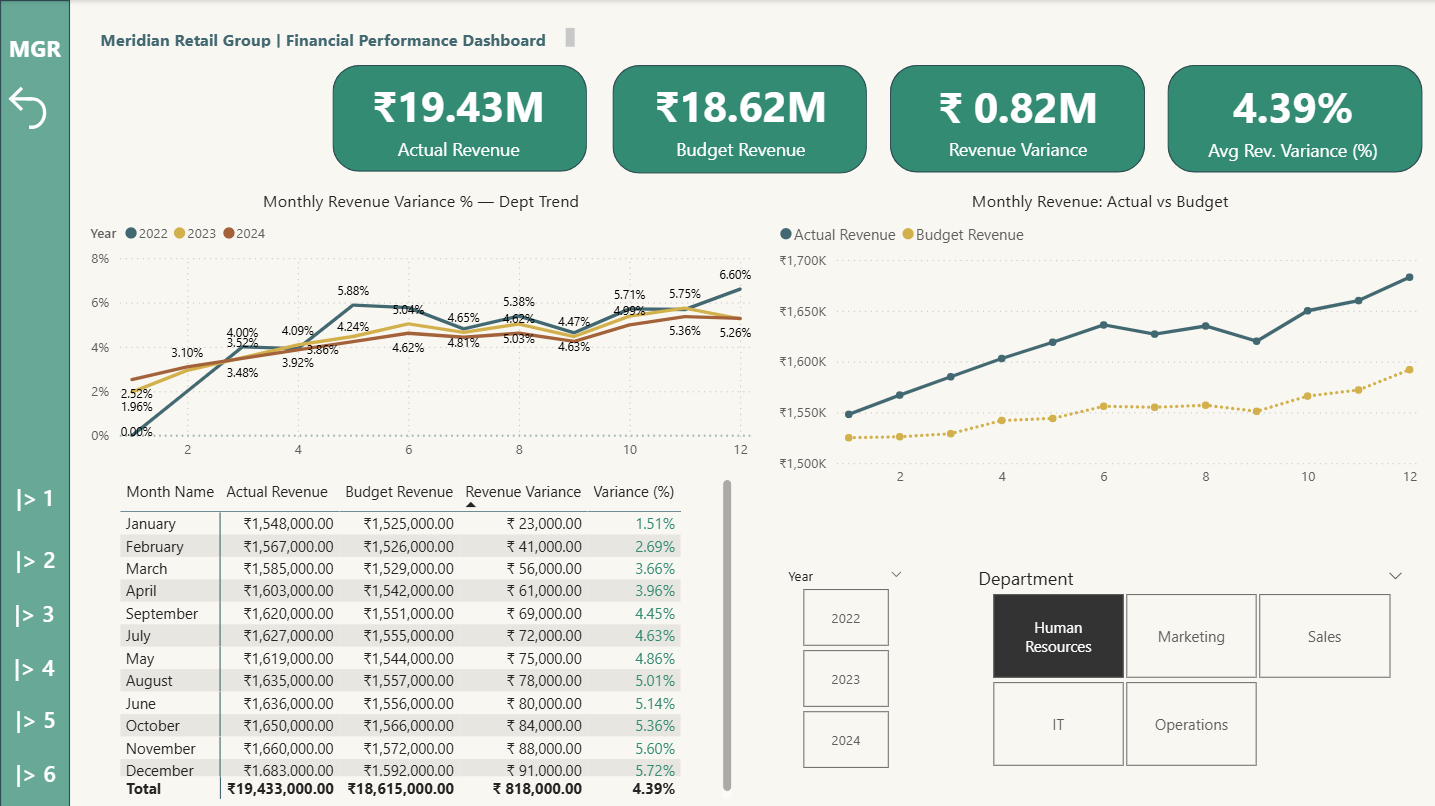

The page's visual inventory and layout, read from the dashboard file:
{"tool":"powerbi","page":{"name":"Revenue Intelligence","canvas":[1280,720],"ordinal":3},"visuals":[{"type":"actionButton","title":"Logo","box":[0,11.5,62.5,60.9],"z":0,"group":"g3"},{"type":"shape","box":[295.7,58.1,226.7,95],"z":0,"group":"g1"},{"type":"lineChart","title":" Monthly Revenue Variance % — Dept Trend","fields":{"Series":["Budget Variance.Year"],"Category":["Budget Variance.Month Number"],"Y":["Measure_Table.4.Avg Revenue Variance (%) (Bud. Var)"]},"box":[75.7,168.6,598.6,250],"z":0},{"type":"actionButton","box":[0,418.9,61.6,47.7],"z":0,"group":"g2"},{"type":"slicer","title":"Slicer - Yr","fields":{"Values":["Budget Variance.Year"]},"box":[688.9,498.9,126.7,191.1],"z":0,"group":"g4"},{"type":"textbox","title":"Title","box":[84.8,20.8,431.9,27.7],"z":1000,"group":"g3"},{"type":"shape","box":[544.6,58.1,226.7,96.7],"z":1000,"group":"g1"},{"type":"pivotTable","fields":{"Rows":["Budget Variance.Month Name"],"Values":["Measure_Table.4.Actual Revenue (Bud. Var)","Measure_Table.4.Budget Revenue (Bud. Var)","Measure_Table.4.Revenue Variance (Bud. Var)","Measure_Table.4.Avg Revenue Variance (%) (Bud. Var)"]},"box":[102.5,422.3,555,294.4],"z":1000},{"type":"actionButton","box":[1.5,474.3,61.6,47.7],"z":1000,"group":"g2"},{"type":"slicer","title":"Slicer - Dept.","fields":{"Values":["Budget Variance.Department"]},"box":[857.7,498.2,403.7,190.4],"z":1000,"group":"g4"},{"type":"shape","box":[792.1,58.1,227.1,95.7],"z":2000,"group":"g1"},{"type":"lineChart","title":"Monthly Revenue: Actual vs Budget","fields":{"Category":["Budget Variance.Month Number"],"Y":["Measure_Table.4.Actual Revenue (Bud. Var)","Measure_Table.4.Budget Revenue (Bud. Var)"]},"box":[688.6,168.6,581.4,274.3],"z":2000},{"type":"actionButton","box":[0,522.1,61.6,47.7],"z":2000,"group":"g2"},{"type":"shape","title":"Border Shape","box":[0,0,62.4,720.2],"z":3000},{"type":"card","title":"Actual","fields":{"Values":["Measure_Table.4.Actual Revenue (Bud. Var)"]},"box":[312.4,58.1,191.7,95],"z":3000,"group":"g1"},{"type":"actionButton","box":[0,569.8,61.6,47.7],"z":3000,"group":"g2"},{"type":"card","title":"Budgeted","fields":{"Values":["Measure_Table.4.Budget Revenue (Bud. Var)"]},"box":[553,58.1,213.3,95],"z":4000,"group":"g1"},{"type":"actionButton","title":"Reset - Button","box":[0,70.7,74,49.3],"z":4000},{"type":"actionButton","box":[1.5,665.3,61.6,47.7],"z":4000,"group":"g2"},{"type":"group","id":"g1","title":"KPI Cards","box":[295.7,57.9,970.5,96.9],"z":5000},{"type":"card","title":"Variance","fields":{"Values":["Measure_Table.4.Revenue Variance (Bud. Var)"]},"box":[810.7,59.1,190.6,94.1],"z":5000,"group":"g1"},{"type":"actionButton","box":[1.5,617.6,61.6,47.7],"z":5000,"group":"g2"},{"type":"shape","box":[1039.1,58.1,227.1,95.7],"z":6000,"group":"g1"},{"type":"group","id":"g2","title":"Page Navigation","box":[0,418.9,63.1,294.1],"z":6000},{"type":"group","id":"g3","title":"Logo & Title","box":[0,11.5,516.7,60.9],"z":7000},{"type":"card","title":"Variance","fields":{"Values":["Measure_Table.4.Avg Revenue Variance (%) (Bud. Var)"]},"box":[1049.6,57.9,203.9,96.5],"z":7000,"group":"g1"},{"type":"group","id":"g4","title":"Slicers","box":[688.9,498.2,572.5,191.8],"z":8000}]}

Visuals, with their boxes on the page's 1280x720 design canvas (x1, y1, x2, y2). These are canvas units, not pixel positions in the 1435x806 screenshot, which may show the page scaled, cropped or inside an application window:
"Logo" actionButton: 0, 12, 62, 72
shape: 296, 58, 522, 153
" Monthly Revenue Variance % — Dept Trend" lineChart: 76, 169, 674, 419
actionButton: 0, 419, 62, 467
"Slicer - Yr" slicer: 689, 499, 816, 690
"Title" textbox: 85, 21, 517, 48
shape: 545, 58, 771, 155
pivotTable - Budget Variance.Month Name x Measure_Table.4.Actual Revenue (Bud. Var): 102, 422, 658, 717
actionButton: 2, 474, 63, 522
"Slicer - Dept." slicer: 858, 498, 1261, 689
shape: 792, 58, 1019, 154
"Monthly Revenue: Actual vs Budget" lineChart: 689, 169, 1270, 443
actionButton: 0, 522, 62, 570
"Border Shape" shape: 0, 0, 62, 720
"Actual" card: 312, 58, 504, 153
actionButton: 0, 570, 62, 618
"Budgeted" card: 553, 58, 766, 153
"Reset - Button" actionButton: 0, 71, 74, 120
actionButton: 2, 665, 63, 713
"KPI Cards" group: 296, 58, 1266, 155
"Variance" card: 811, 59, 1001, 153
actionButton: 2, 618, 63, 665
shape: 1039, 58, 1266, 154
"Page Navigation" group: 0, 419, 63, 713
"Logo & Title" group: 0, 12, 517, 72
"Variance" card: 1050, 58, 1254, 154
"Slicers" group: 689, 498, 1261, 690
